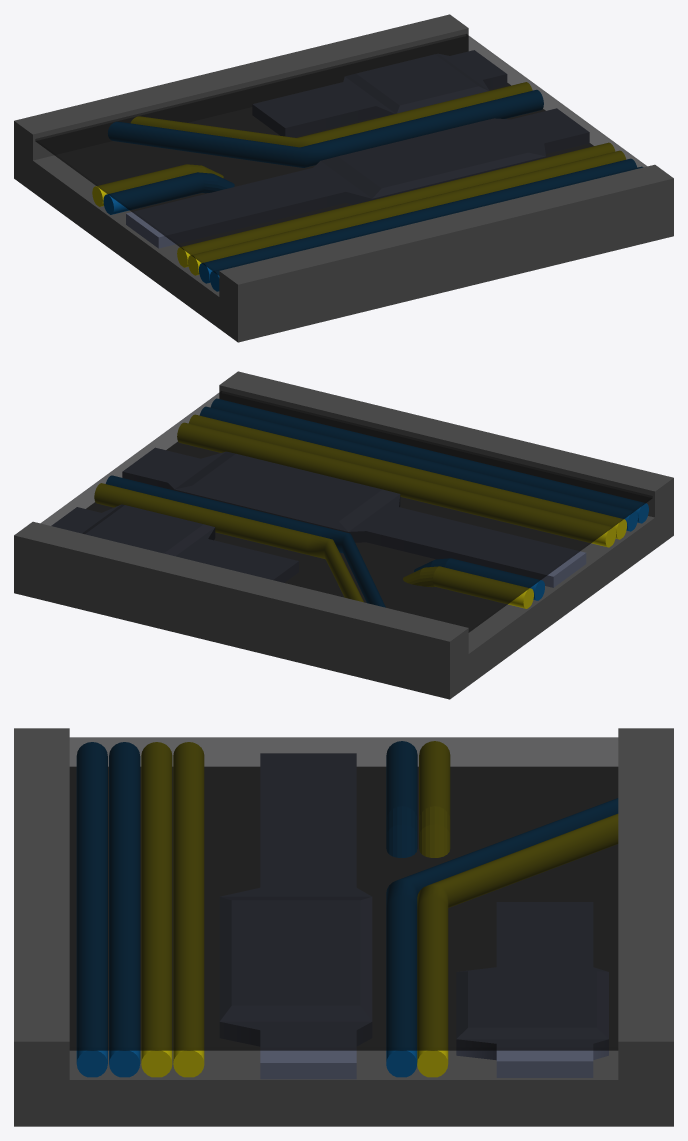
File: ModularTile1_Middle.fbx
3 renders of one model, top to bottom at view 1: azimuth 30°, elevation 25°; view 2: azimuth 150°, elevation 25°; view 3: azimuth 270°, elevation 25°, orthographic. The views are drawn at different scales.
Visible parts, largest first — view 1: polySurface13; view 2: polySurface13; view 3: polySurface13.
Boxes of the visible parts, box(x1,y1,x2,y2) form: polySurface13: box(14, 14, 673, 342); polySurface13: box(14, 371, 673, 699); polySurface13: box(14, 728, 673, 1126).
Bounding box in the file's own units: 7.68 × 0.9734 × 6.84.
